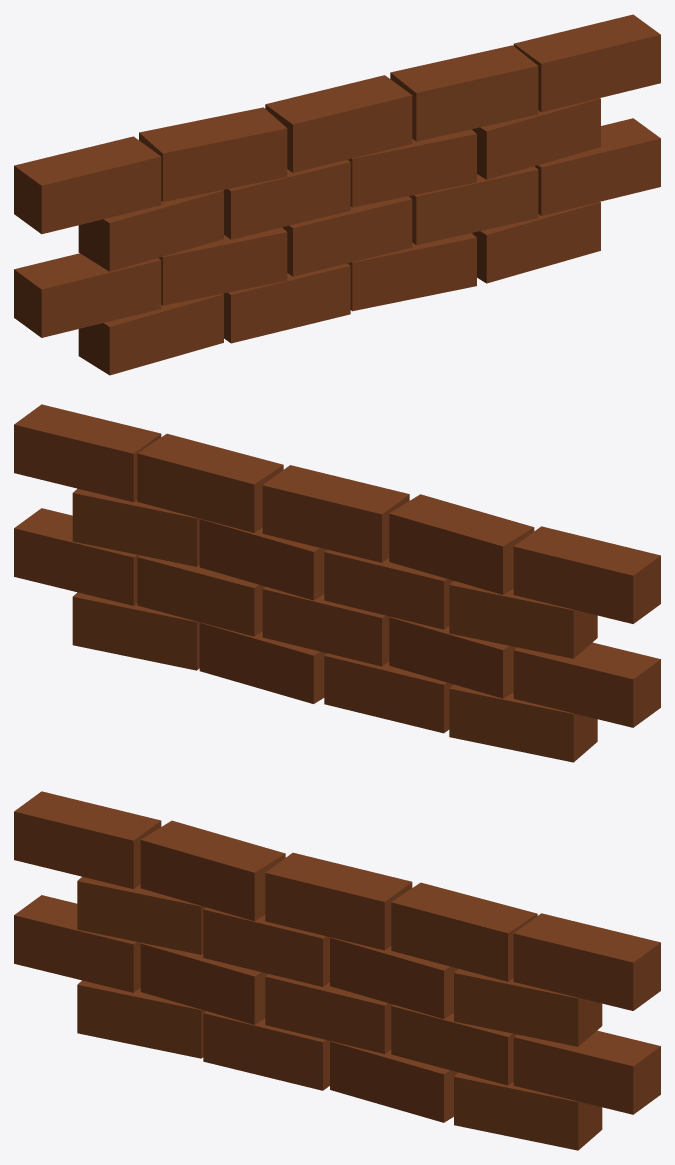
Rendered from Brick Wall-GhSmk5IA5i.glb.
3 renders of one model, top to bottom at view 1: azimuth 30°, elevation 25°; view 2: azimuth 150°, elevation 25°; view 3: azimuth 330°, elevation 25°, orthographic.
Visible parts, largest first — view 1: Brick Wall-GhSmk5IA5i; view 2: Brick Wall-GhSmk5IA5i; view 3: Brick Wall-GhSmk5IA5i.
Boxes of the visible parts, x1,y1,x2,y2 form: Brick Wall-GhSmk5IA5i: (14,14,660,375); Brick Wall-GhSmk5IA5i: (14,404,660,762); Brick Wall-GhSmk5IA5i: (14,791,660,1150).
Size of the model in its own units: 0.8144 by 0.2562 by 0.075.
